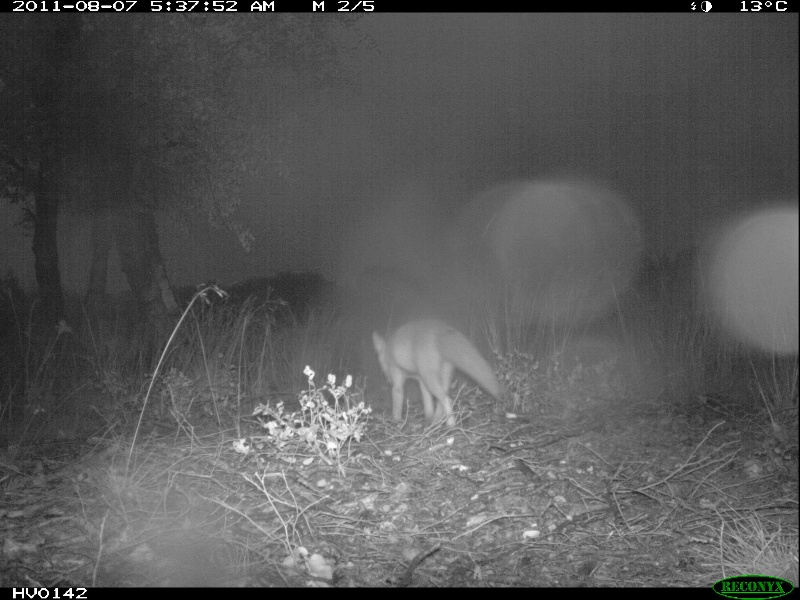fox: (365, 315, 520, 432)
